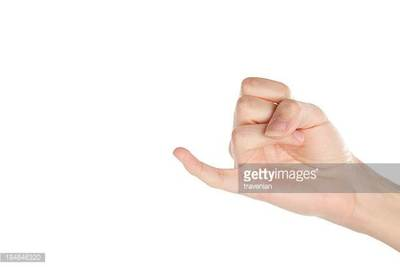closedhandfront: (229, 60, 349, 219)
mindinho: (169, 137, 253, 199)
